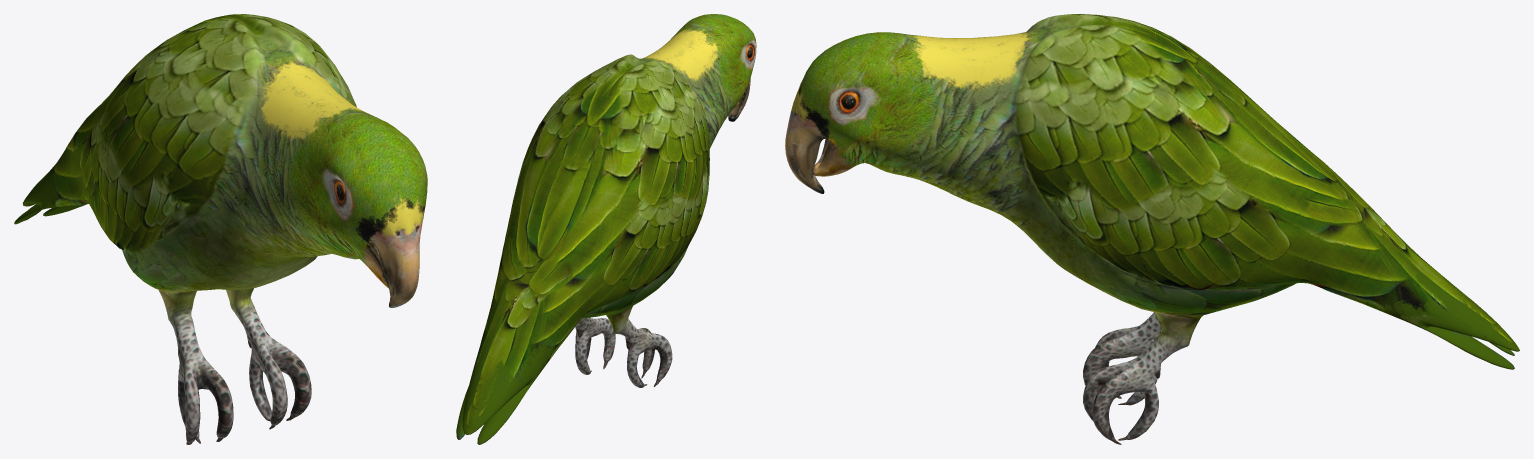
File: LoraNucaAmarilla.glb
The picture shows the model from 3 angles, left to right: view 1: azimuth 30°, elevation 25°; view 2: azimuth 150°, elevation 25°; view 3: azimuth 270°, elevation 25°; orthographic projection. The views are drawn at different scales.
Visible parts, largest first — view 1: LoraNucaAmarilla; view 2: LoraNucaAmarilla; view 3: LoraNucaAmarilla.
Part boxes in pixels (x1,y1,x2,y2): LoraNucaAmarilla: [14, 14, 427, 444]; LoraNucaAmarilla: [456, 14, 756, 444]; LoraNucaAmarilla: [785, 14, 1519, 444].
Size of the model in its own units: 1.03 by 1.95 by 3.24.
Materials: 1 (1 with a texture image).
